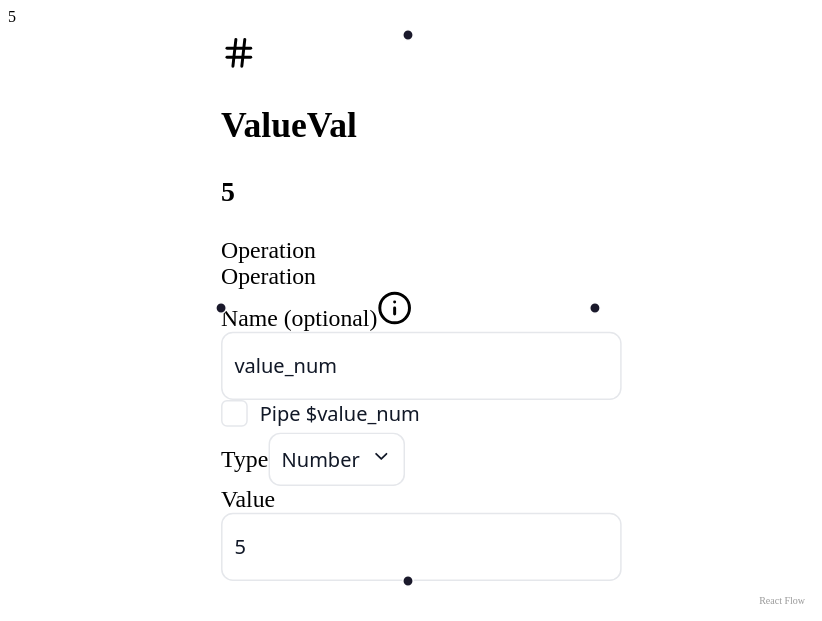
Test: ValueNode number input › commits only a finite parse
Replace the text in the number field with placeholder "Enter number" with "42". click: (422,546)
box: [221,512,622,580]
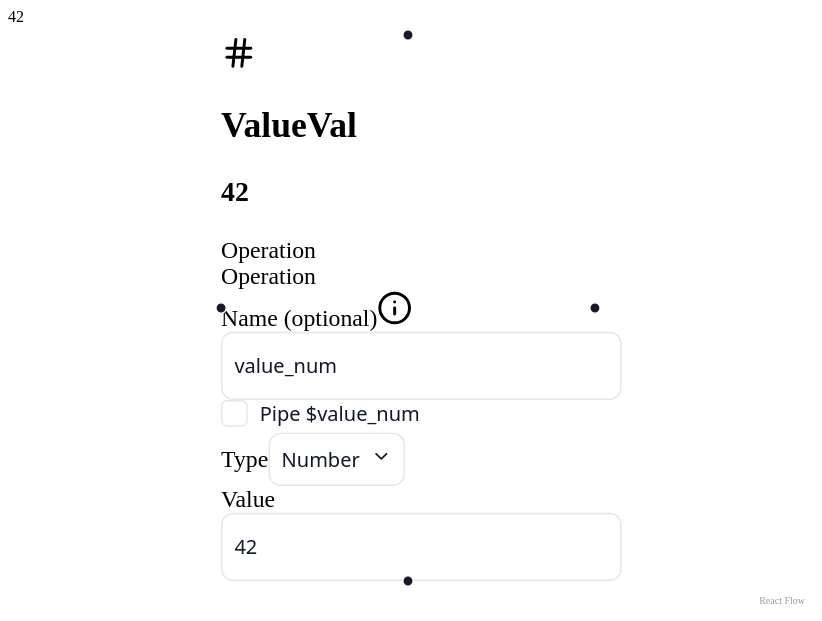
Expected: the text with test id "stored" reads "42", [8,8,24,25]
